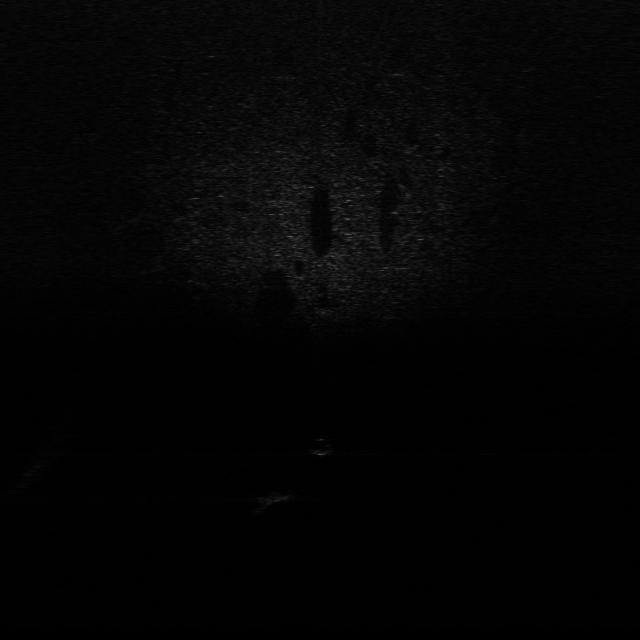ball: (306, 437, 336, 458)
square cage: (254, 490, 304, 508)
tyre: (373, 286, 399, 323)
